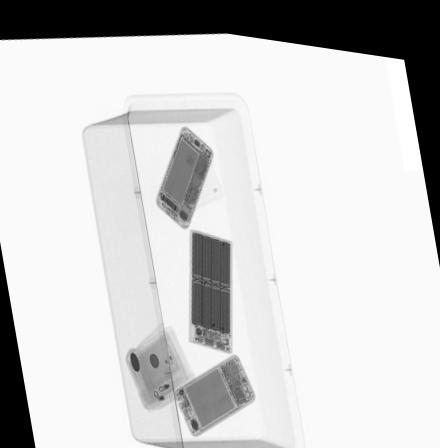Powerbank: (188, 224, 229, 343)
